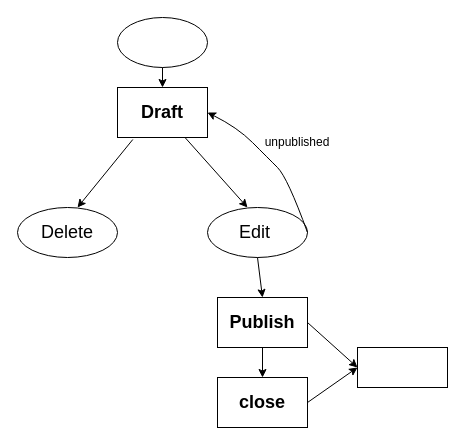
Some shapes in this 465 by 445 pixel diagram are drawn without their labels. The shapes that lost their labels are listed below. From the top down, each one's centre as x and y in pixels, then its label:
the point at 162,42: Create
the point at 402,367: View responses
